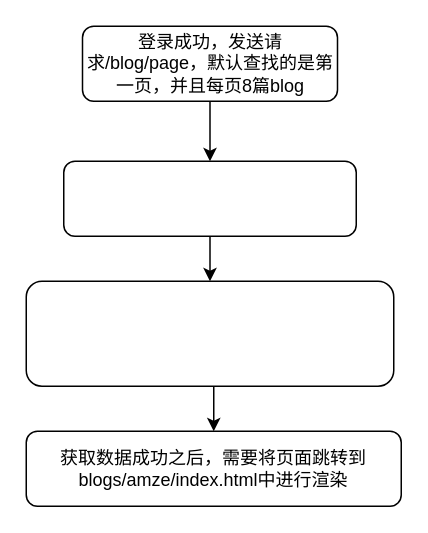
The diagram is 428 pixels wide and 533 high, and some of its shapes have lost their labels. The box of each missing label's shape, as (x1, y1, x2, y2) in pixels:
同时在首页中，需要获取所有的标签tags，以及最新发布的Blog,点击最多的blog。对于最新发布的blog,要求是距离当前时间<=1天的为最新发布的blog: (25, 280, 394, 386)
获取所有的Blog,同时对每个Blog，获取对应的作者相关信息，该片blog的分类: (62, 160, 356, 236)
